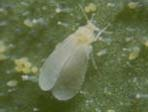whitefly: (36, 2, 113, 104)
